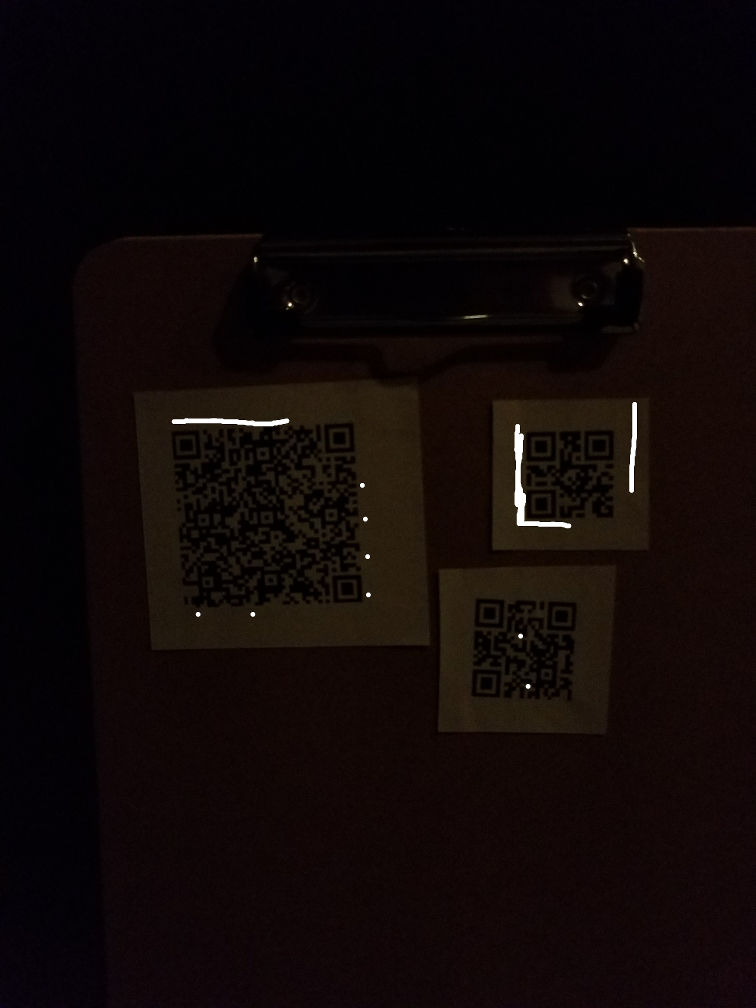QR_CODE: (162, 401, 370, 626), (459, 580, 594, 722), (512, 414, 630, 537)
